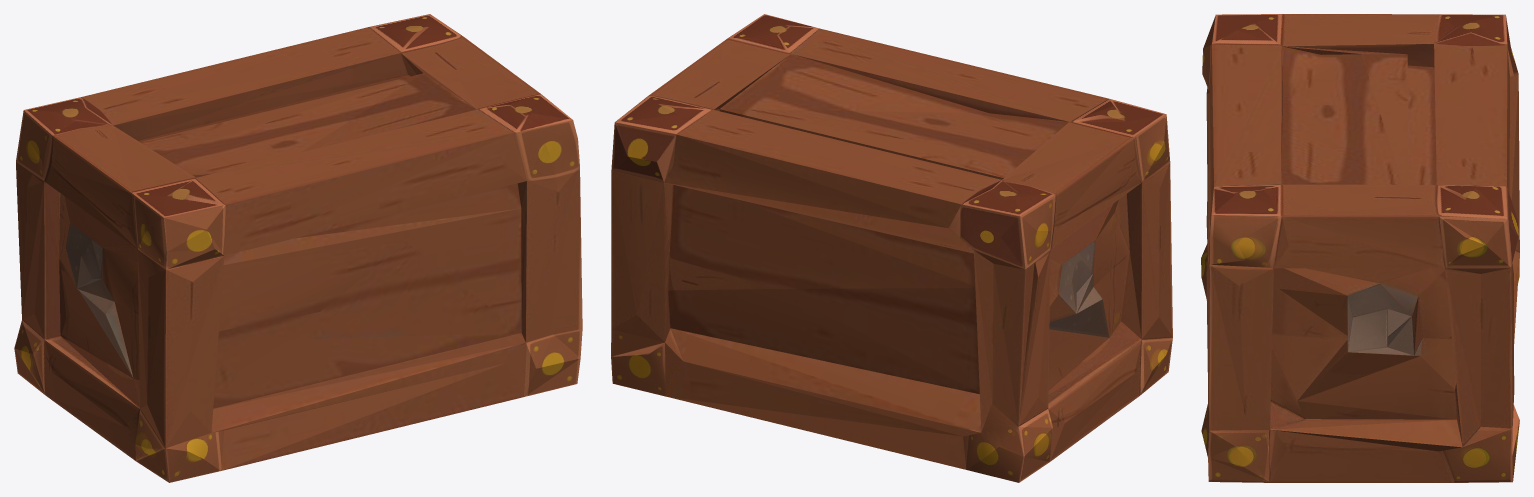
File: caixote-madeira.glb
3 renders of one model, left to right at view 1: azimuth 30°, elevation 25°; view 2: azimuth 150°, elevation 25°; view 3: azimuth 270°, elevation 25°, orthographic.
Bounding box in the file's own units: 1.9 × 1.15 × 1.22.
Materials: 1 (1 with a texture image).
